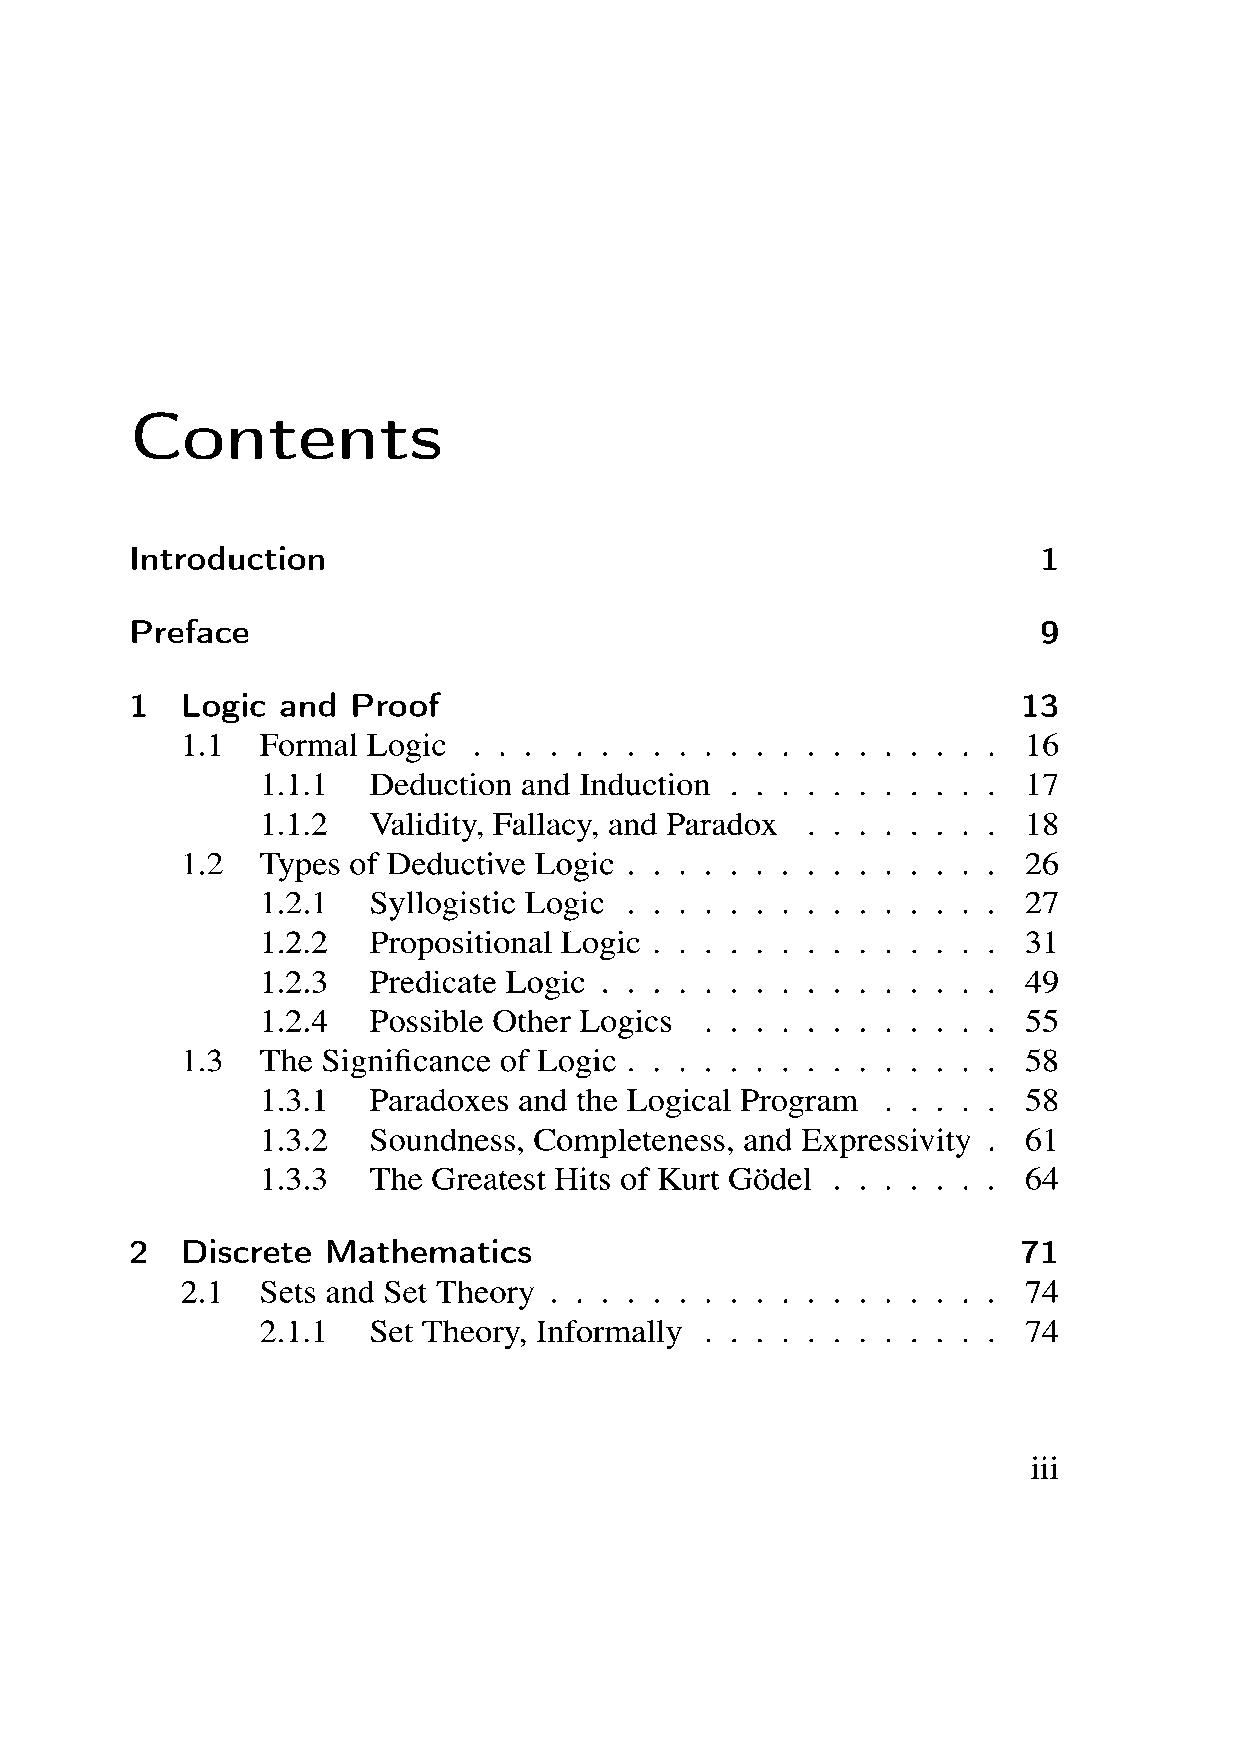TOC_chapter: (260, 1125, 969, 1159), (260, 1086, 859, 1118), (260, 808, 780, 843), (260, 1165, 813, 1193), (183, 1045, 617, 1078), (258, 1007, 674, 1039), (258, 925, 641, 960), (256, 1318, 682, 1349), (178, 849, 619, 879), (259, 772, 713, 800), (123, 1237, 531, 1268), (258, 964, 586, 1001), (256, 886, 604, 921), (178, 1278, 531, 1311), (123, 688, 446, 719), (174, 727, 448, 762), (123, 537, 323, 578), (126, 612, 254, 654)
TOC_pagenumber: (1023, 1317, 1062, 1347), (1021, 848, 1062, 878), (1023, 692, 1062, 721), (1027, 808, 1062, 839), (1024, 965, 1059, 996), (1023, 1159, 1057, 1190), (1019, 1236, 1053, 1267), (1023, 1005, 1059, 1035), (1023, 1087, 1062, 1114), (1027, 769, 1062, 798), (1024, 1278, 1057, 1306), (1023, 1047, 1057, 1074), (1023, 888, 1059, 914), (1027, 730, 1059, 758), (1025, 1125, 1057, 1153), (1024, 925, 1055, 953), (1037, 617, 1062, 646), (1039, 545, 1060, 572)
chapter: (129, 411, 447, 466)
